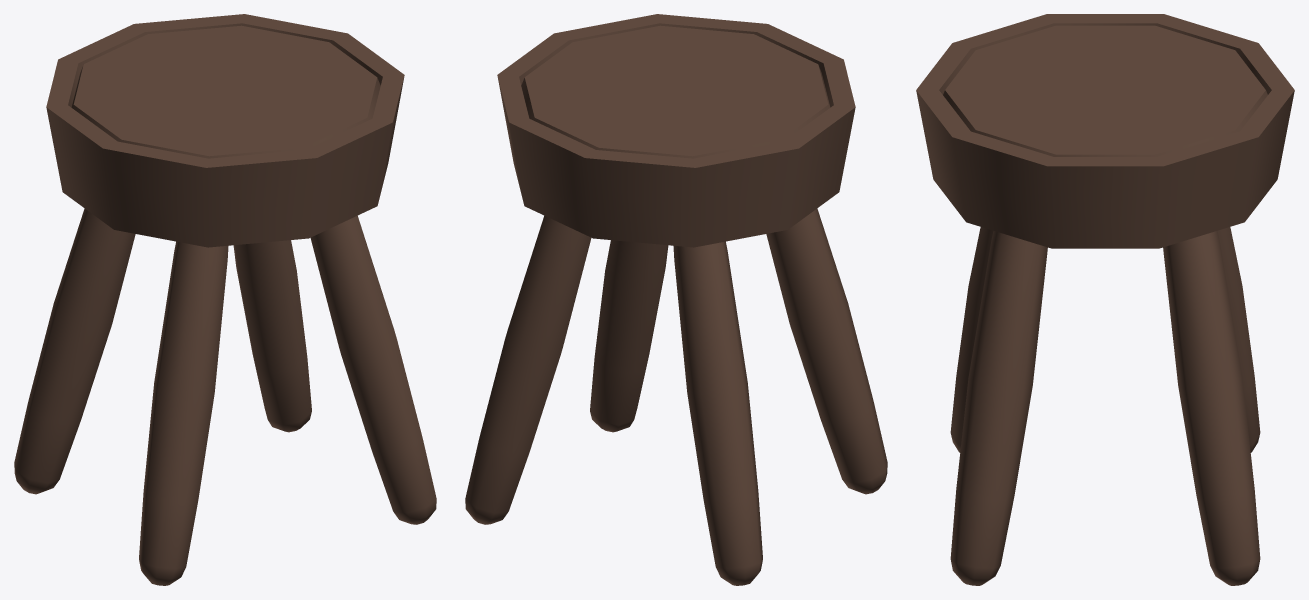
The model's file is Tabure.fbx.
3 renders of one model, left to right at view 1: azimuth 30°, elevation 25°; view 2: azimuth 150°, elevation 25°; view 3: azimuth 270°, elevation 25°, orthographic. The views are drawn at different scales.
Visible parts, largest first — view 1: tabure; view 2: tabure; view 3: tabure.
Boxes of the visible parts, bbox=[...] form: tabure: bbox=[14, 14, 436, 585]; tabure: bbox=[465, 14, 887, 585]; tabure: bbox=[916, 14, 1294, 585].
Size of the model in its own units: 47.55 by 62.68 by 50.
